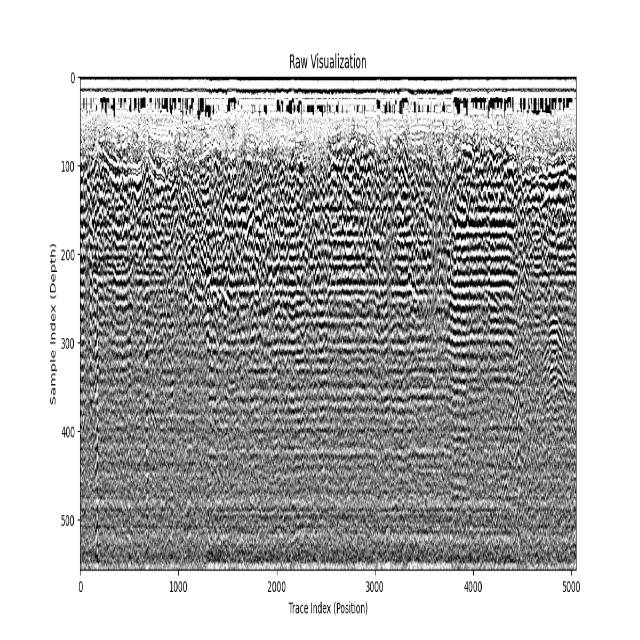anomaly: (544, 314, 566, 399)
